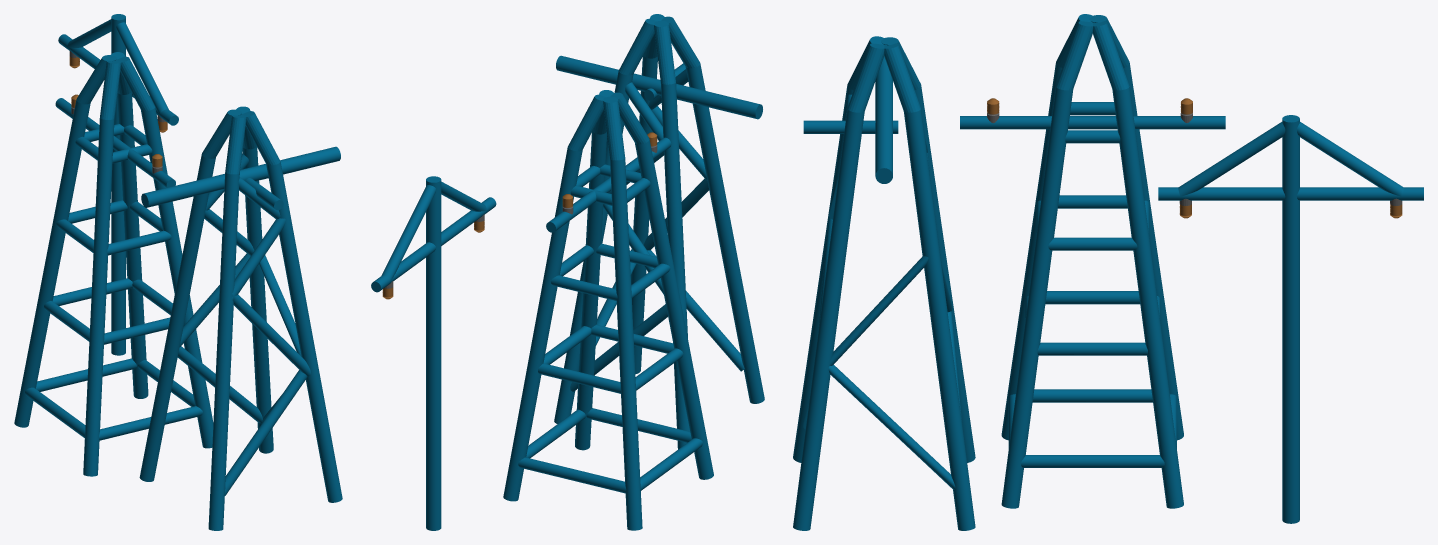
File: Torre de energia_Model VHU TEXTURIZADO.fbx
3 renders of one model, left to right at view 1: azimuth 30°, elevation 25°; view 2: azimuth 150°, elevation 25°; view 3: azimuth 270°, elevation 25°, orthographic. The views are drawn at different scales.
Parts seen in each view (by area): view 1: pCylinder53, polySurface1, pCylinder54; view 2: polySurface1, pCylinder53, pCylinder54; view 3: polySurface1, pCylinder53, pCylinder54.
Part boxes in pixels (x1,y1,x2,y2): pCylinder53: (139, 106, 342, 530); polySurface1: (14, 52, 213, 476); pCylinder54: (58, 14, 178, 355); polySurface1: (503, 90, 713, 530); pCylinder53: (554, 14, 764, 449); pCylinder54: (371, 176, 496, 530); polySurface1: (960, 14, 1225, 508); pCylinder53: (793, 36, 975, 530); pCylinder54: (1158, 115, 1423, 523).
Bounding box in the file's own units: 10.75 × 19.39 × 24.5.
